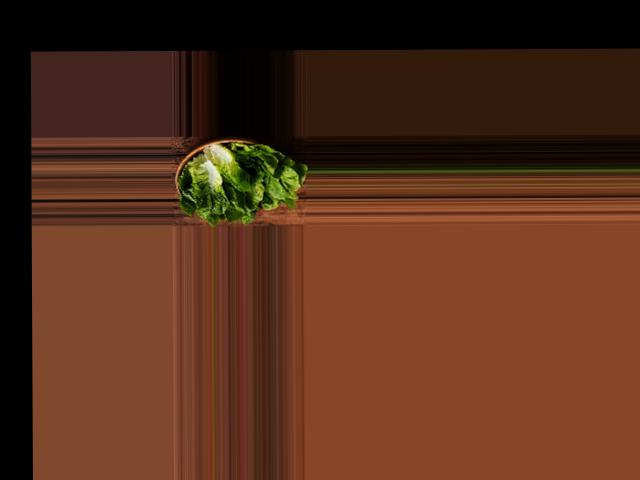lettuce: (170, 137, 305, 221)
